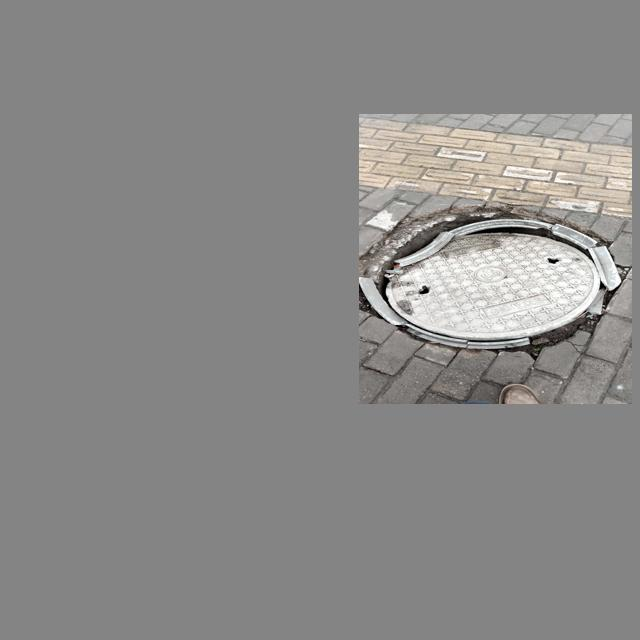circle: (362, 204, 628, 356)
